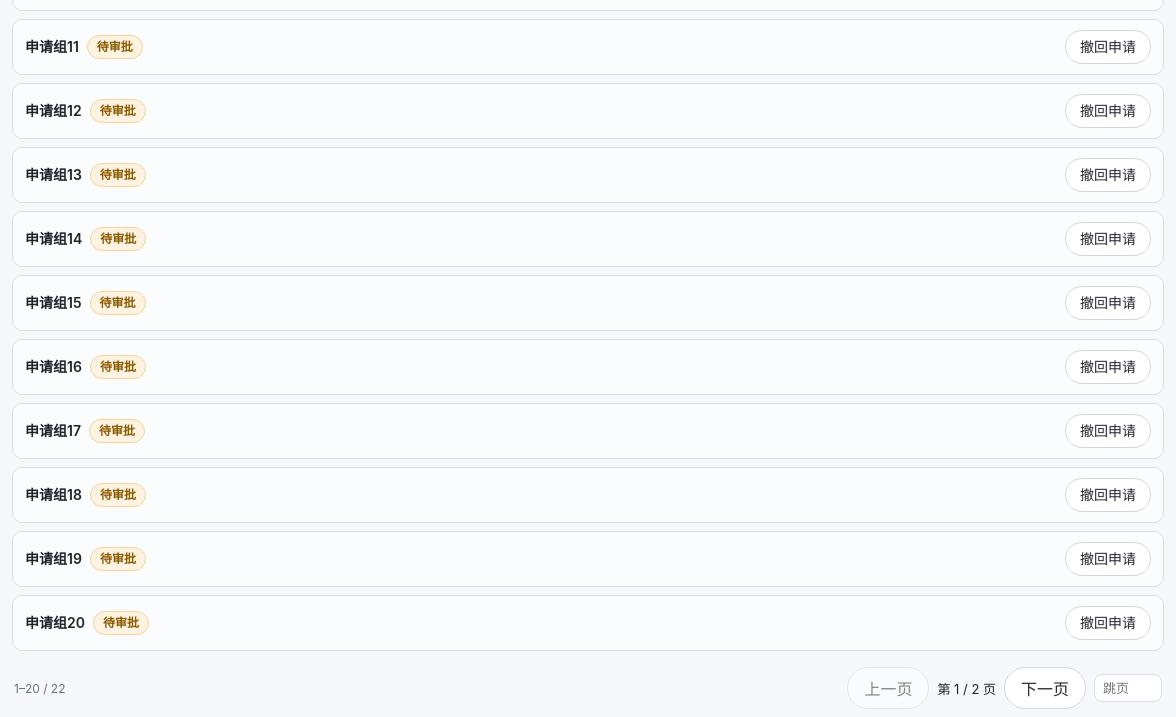
我的共享申请超过一页时分页展示
(page scrolled)
Expected: the text "申请组21" is not shown
What coordinates should you click on to do the following:
click the button "下一页"
I would click on:
 (1045, 688)
Its box is x1=1004 y1=667 x2=1086 y2=709.
(page scrolled)
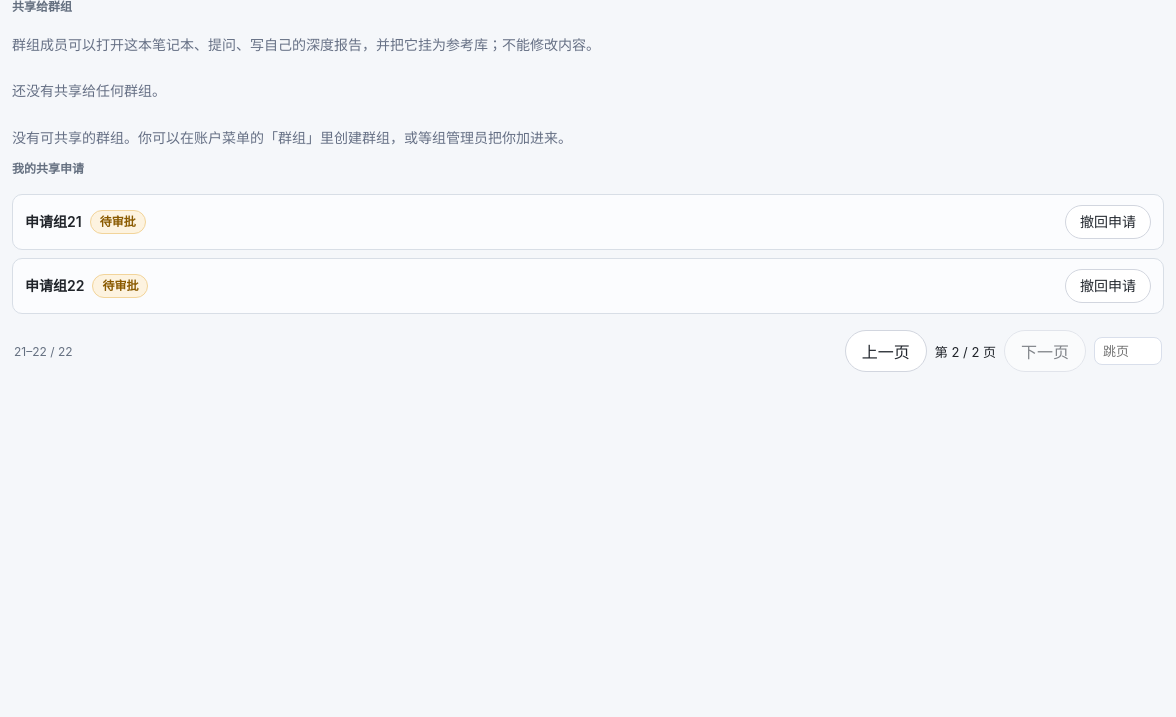
Now the text "申请组22" is shown, box x1=25 y1=276 x2=84 y2=296
